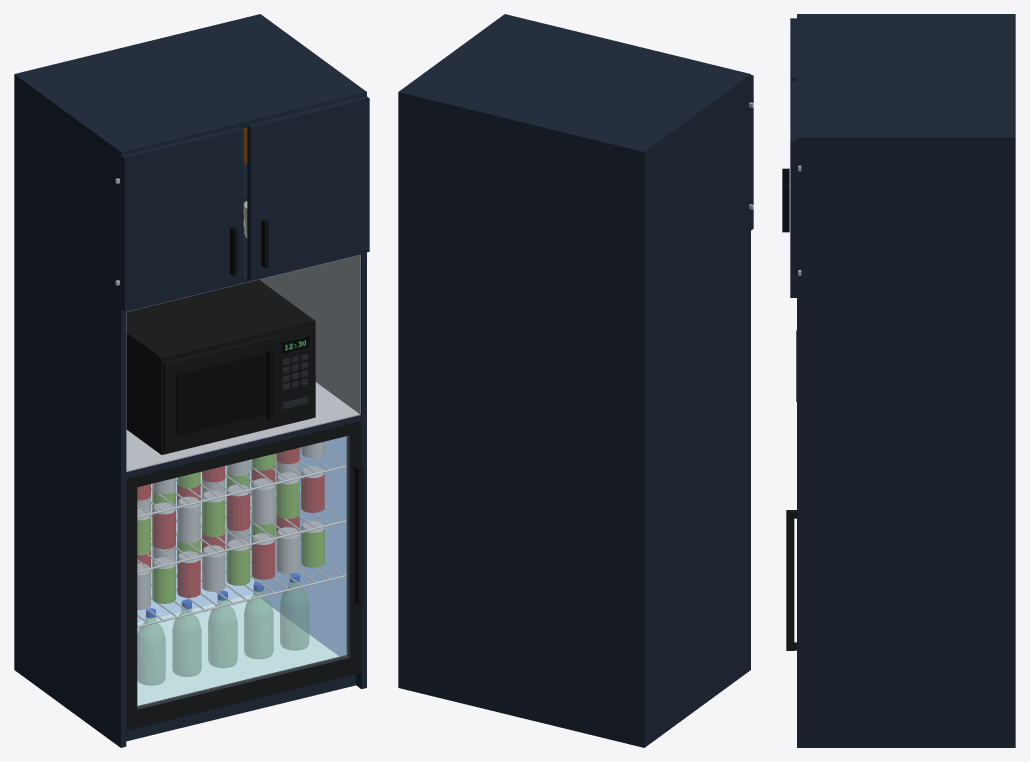
File: Office_Pantry_Utility_Cabinet.glb
3 renders of one model, left to right at view 1: azimuth 30°, elevation 25°; view 2: azimuth 150°, elevation 25°; view 3: azimuth 270°, elevation 25°, orthographic. The views are drawn at different scales.
Visible parts, largest first — view 1: Side_Left, Cooler_Glass_Outer, Cooler_Glass_Inner, Top_Panel, Upper_Door_Right, Upper_Door_Left, MW_Casing, Cooler_Liner_Floor, Cooler_Sparkling_Water_Bottles, Cooler_Liner_Right, Niche_Lining_Right, Cooler_Cans_Lime (+19 smaller); view 2: Back_Panel, Side_Left, Top_Panel, Side_Right; view 3: Side_Right, Top_Panel, Upper_Door_Right, Cooler_Handle, Side_Left, Upper_Door_Left.
Boxes of the visible parts, x1=… form: Side_Left: x1=14, y1=72, x2=126, y2=747; Cooler_Glass_Outer: x1=138, y1=436, x2=349, y2=708; Cooler_Glass_Inner: x1=138, y1=437, x2=346, y2=706; Top_Panel: x1=20, y1=15, x2=361, y2=154; Upper_Door_Right: x1=247, y1=96, x2=369, y2=280; Upper_Door_Left: x1=121, y1=127, x2=243, y2=311; MW_Casing: x1=126, y1=280, x2=315, y2=454; Cooler_Liner_Floor: x1=137, y1=594, x2=338, y2=705; Cooler_Sparkling_Water_Bottles: x1=137, y1=582, x2=308, y2=685; Cooler_Liner_Right: x1=254, y1=436, x2=346, y2=656; Niche_Lining_Right: x1=259, y1=255, x2=360, y2=413; Cooler_Cans_Lime: x1=137, y1=454, x2=324, y2=603; Back_Panel: x1=403, y1=99, x2=638, y2=746; Side_Left: x1=639, y1=72, x2=750, y2=747; Top_Panel: x1=403, y1=15, x2=744, y2=156; Side_Right: x1=398, y1=14, x2=509, y2=688; Side_Right: x1=797, y1=134, x2=1015, y2=747; Top_Panel: x1=797, y1=16, x2=1015, y2=134; Upper_Door_Right: x1=790, y1=81, x2=796, y2=297; Cooler_Handle: x1=786, y1=510, x2=794, y2=650; Side_Left: x1=797, y1=14, x2=1015, y2=16; Upper_Door_Left: x1=790, y1=18, x2=796, y2=81.
Size of the model in its own units: 0.822 by 1.85 by 0.64.
Materials: 24 (1 with a texture image).
